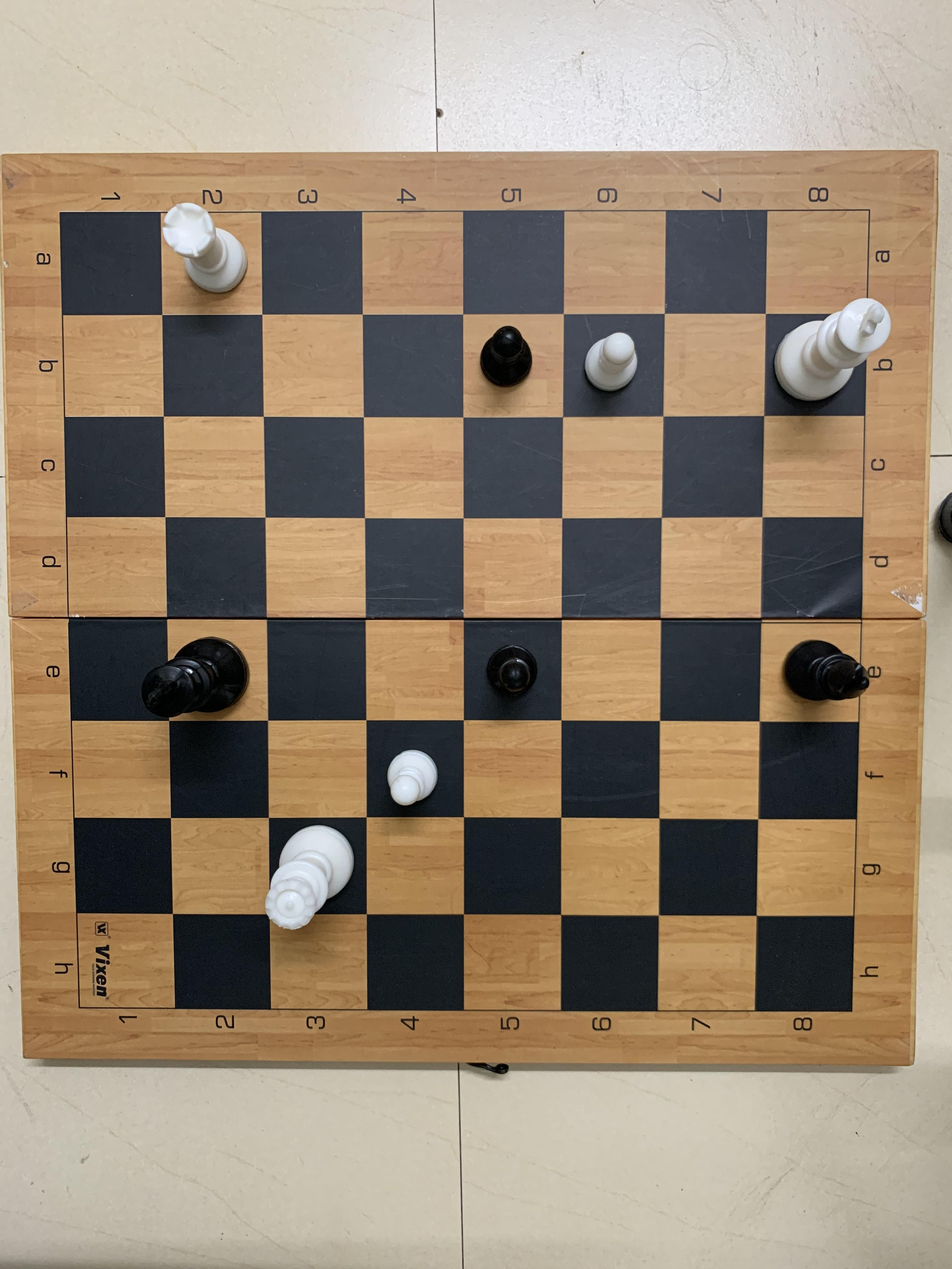black_bishop: (760, 621, 877, 724), (372, 724, 474, 818)
black_king: (123, 622, 254, 734)
black_pawn: (468, 312, 565, 420), (469, 618, 557, 720)
white_king: (762, 299, 907, 412)
white_pawn: (568, 323, 660, 413)
white_queen: (253, 804, 362, 938)
white_rook: (157, 192, 271, 314)
